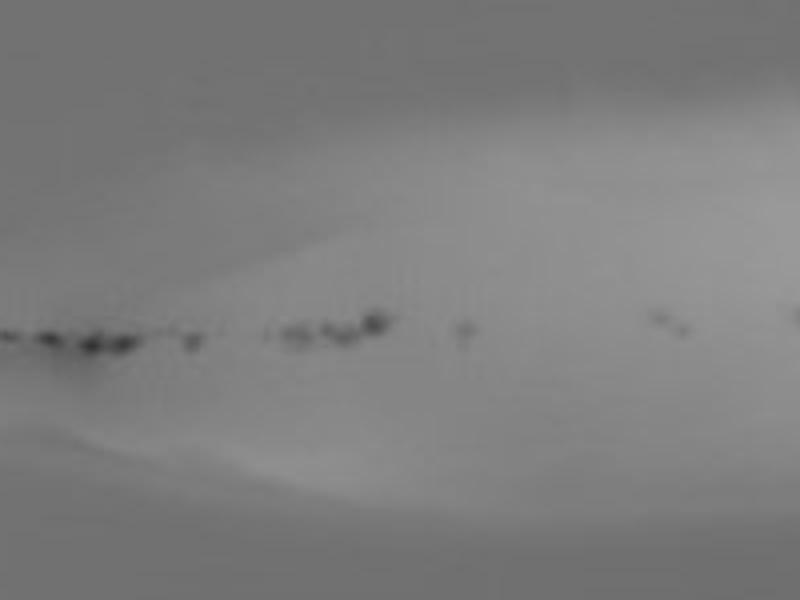defect: (274, 321, 313, 352), (357, 308, 388, 338), (447, 316, 475, 349), (106, 335, 138, 358), (178, 328, 204, 355), (330, 325, 356, 349), (646, 302, 671, 323), (34, 331, 63, 349), (78, 333, 100, 356), (671, 323, 695, 342), (2, 326, 18, 343), (317, 317, 333, 334)
